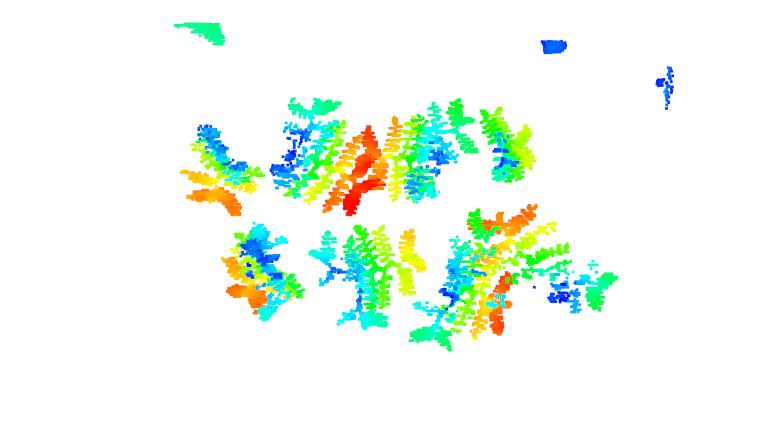chickpea: (469, 204, 619, 316), (266, 85, 381, 219), (313, 217, 424, 332), (354, 100, 481, 200), (418, 235, 516, 352), (218, 216, 307, 319), (177, 117, 264, 217), (481, 104, 541, 185)
